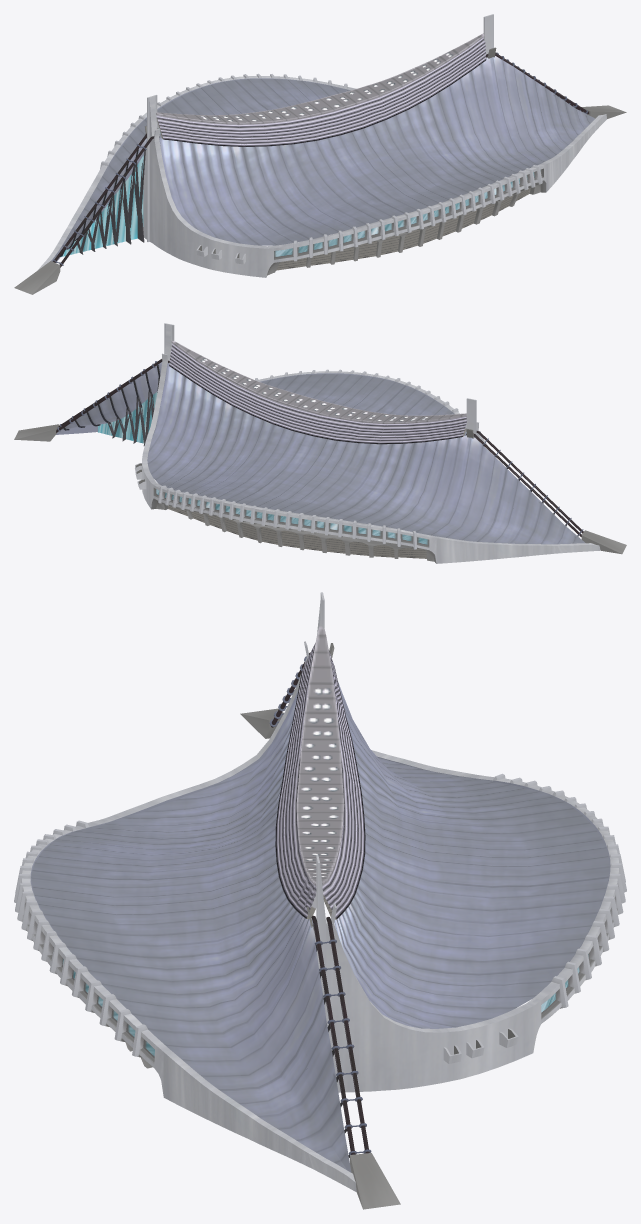
File: stadium-2.glb
The picture shows the model from 3 angles, top to bottom: view 1: azimuth 30°, elevation 25°; view 2: azimuth 150°, elevation 25°; view 3: azimuth 270°, elevation 25°; orthographic projection. The views are drawn at different scales.
Visible parts, largest first — view 1: Object_3; view 2: Object_3; view 3: Object_3.
Boxes of the visible parts, left/top/right/bottom form: Object_3: left=14, top=14, right=626, bottom=294; Object_3: left=14, top=323, right=626, bottom=563; Object_3: left=14, top=592, right=626, bottom=1209.
Size of the model in its own units: 111 by 24.07 by 57.61.
1 material, 1 textured.
